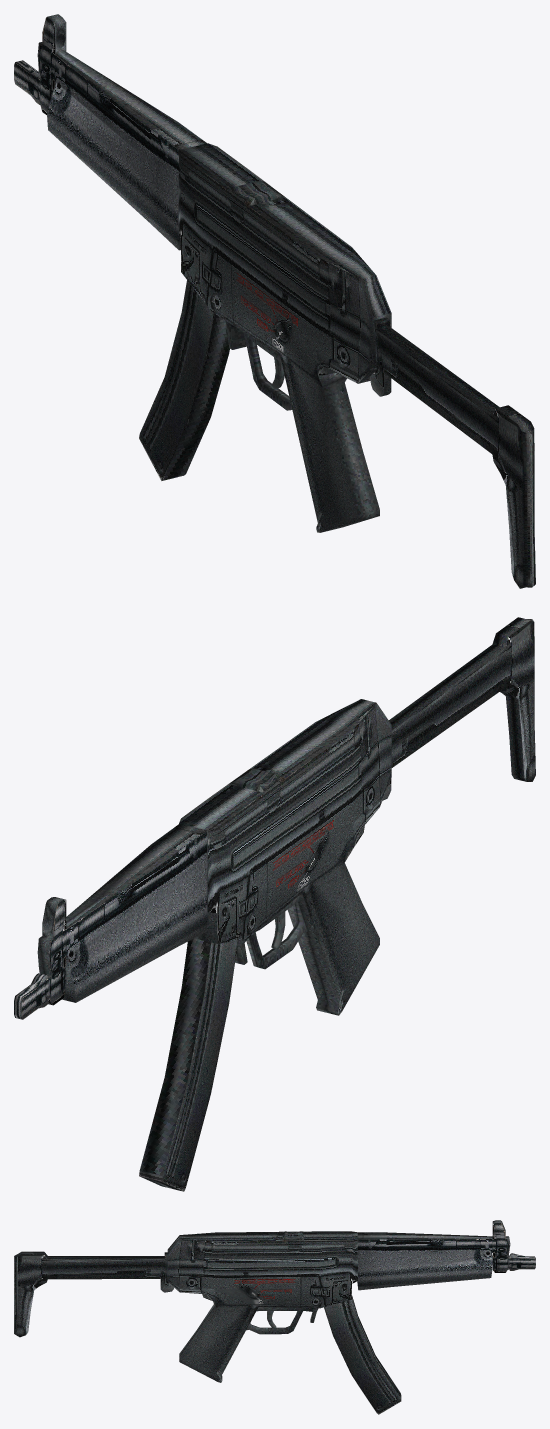
The picture shows the model from 3 angles, top to bottom: view 1: azimuth 30°, elevation 25°; view 2: azimuth 150°, elevation 25°; view 3: azimuth 270°, elevation 25°; orthographic projection. The views are drawn at different scales.
Parts seen in each view (by area): view 1: Main, Barrel, Stock, Magazine, Trigger Guard; view 2: Main, Barrel, Magazine, Stock, Trigger Guard; view 3: Main, Barrel, Stock, Magazine, Trigger Guard.
Boxes of the visible parts, x1,y1,x2,y2 form: Main: (178, 143, 391, 532); Barrel: (14, 14, 206, 250); Stock: (370, 317, 535, 588); Magazine: (139, 280, 229, 480); Trigger Guard: (225, 320, 292, 410); Main: (179, 699, 391, 1015); Barrel: (14, 823, 207, 1019); Magazine: (139, 938, 238, 1191); Stock: (382, 617, 535, 800); Trigger Guard: (235, 895, 307, 969); Main: (167, 1231, 357, 1382); Barrel: (357, 1220, 535, 1290); Stock: (14, 1251, 174, 1337); Magazine: (324, 1296, 401, 1414); Trigger Guard: (246, 1307, 318, 1334).
Bounding box in the file's own units: 0.18 × 1.77 × 4.4.
Materials: 1 (1 with a texture image).
